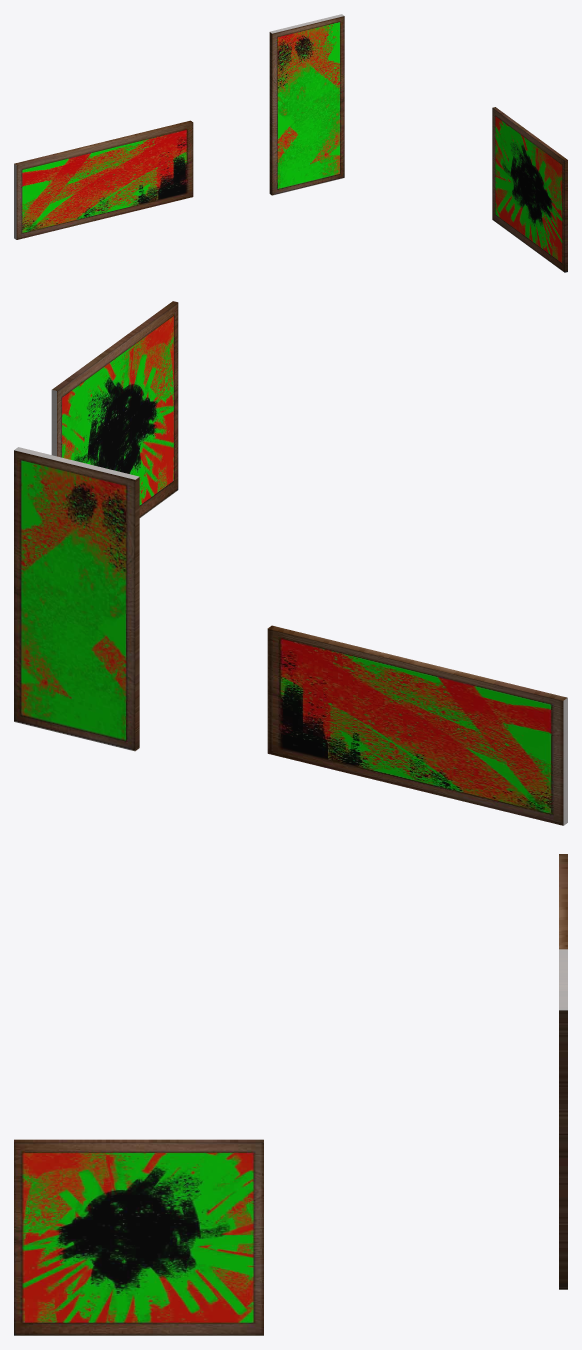
Rendered from SM_TEST_PAINTINGS.fbx.
3 renders of one model, top to bottom at view 1: azimuth 30°, elevation 25°; view 2: azimuth 150°, elevation 25°; view 3: azimuth 270°, elevation 25°, orthographic. The views are drawn at different scales.
Visible parts, largest first — view 1: Box004, Box003, Box002; view 2: Box004, Box003, Box002; view 3: Box002, Box003, Box004.
Part boxes in pixels (x1,y1,x2,y2): Box004: [14, 120, 193, 239]; Box003: [269, 14, 344, 195]; Box002: [492, 107, 567, 272]; Box004: [267, 625, 567, 825]; Box003: [14, 447, 139, 751]; Box002: [51, 301, 178, 517]; Box002: [14, 1139, 263, 1335]; Box003: [559, 949, 567, 1289]; Box004: [559, 854, 567, 949].
Bounding box in the file's own units: 610 × 240 × 431.
1 material, 1 textured.
